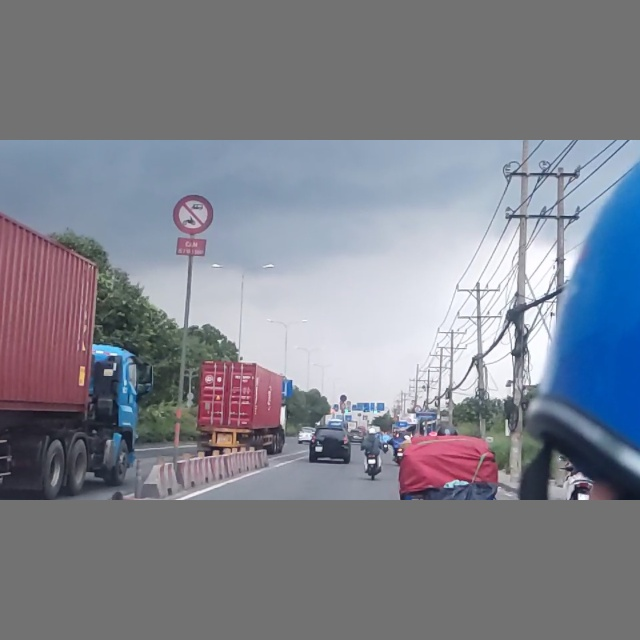P.111: (172, 194, 214, 234)
